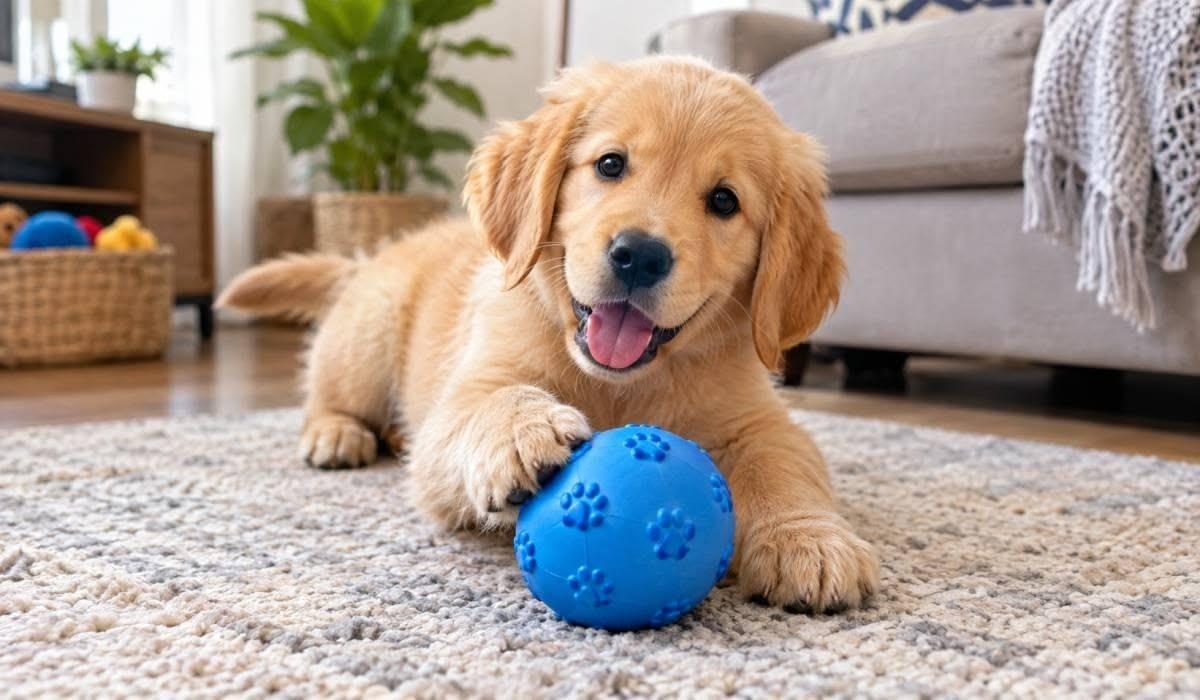puppy-dog: (211, 53, 883, 615)
